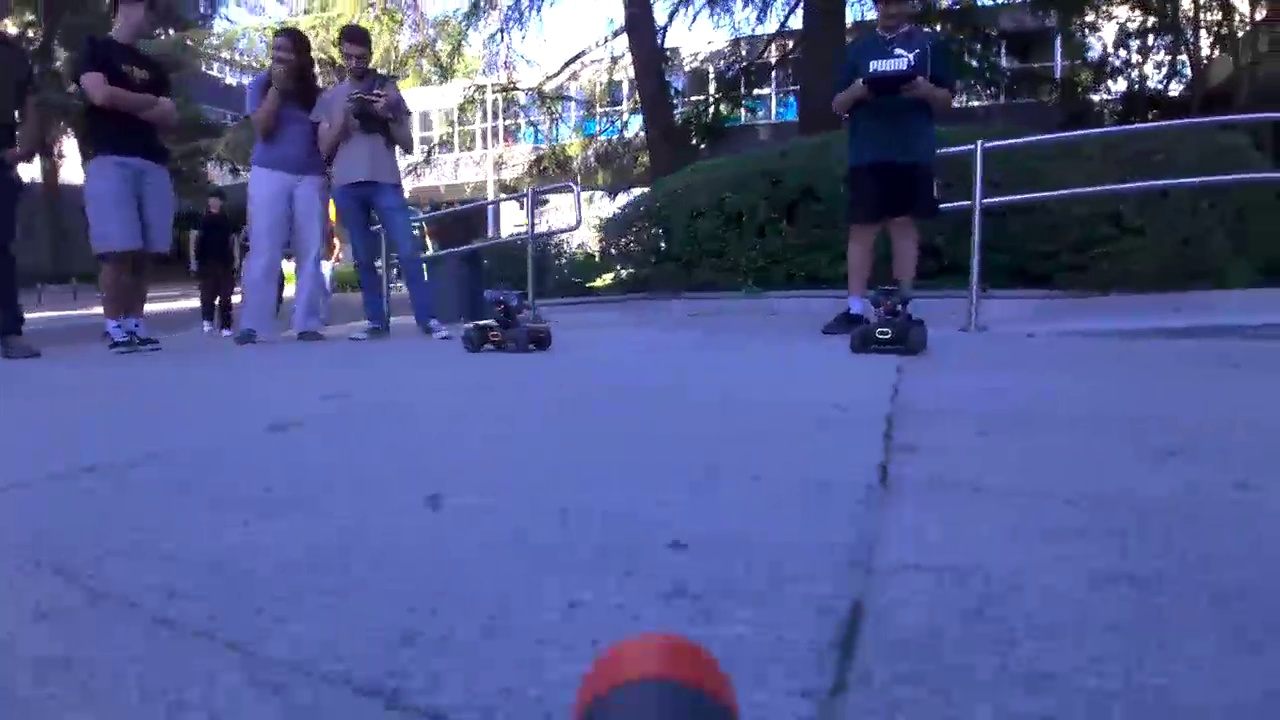robot: (848, 285, 936, 360), (463, 291, 553, 361)
